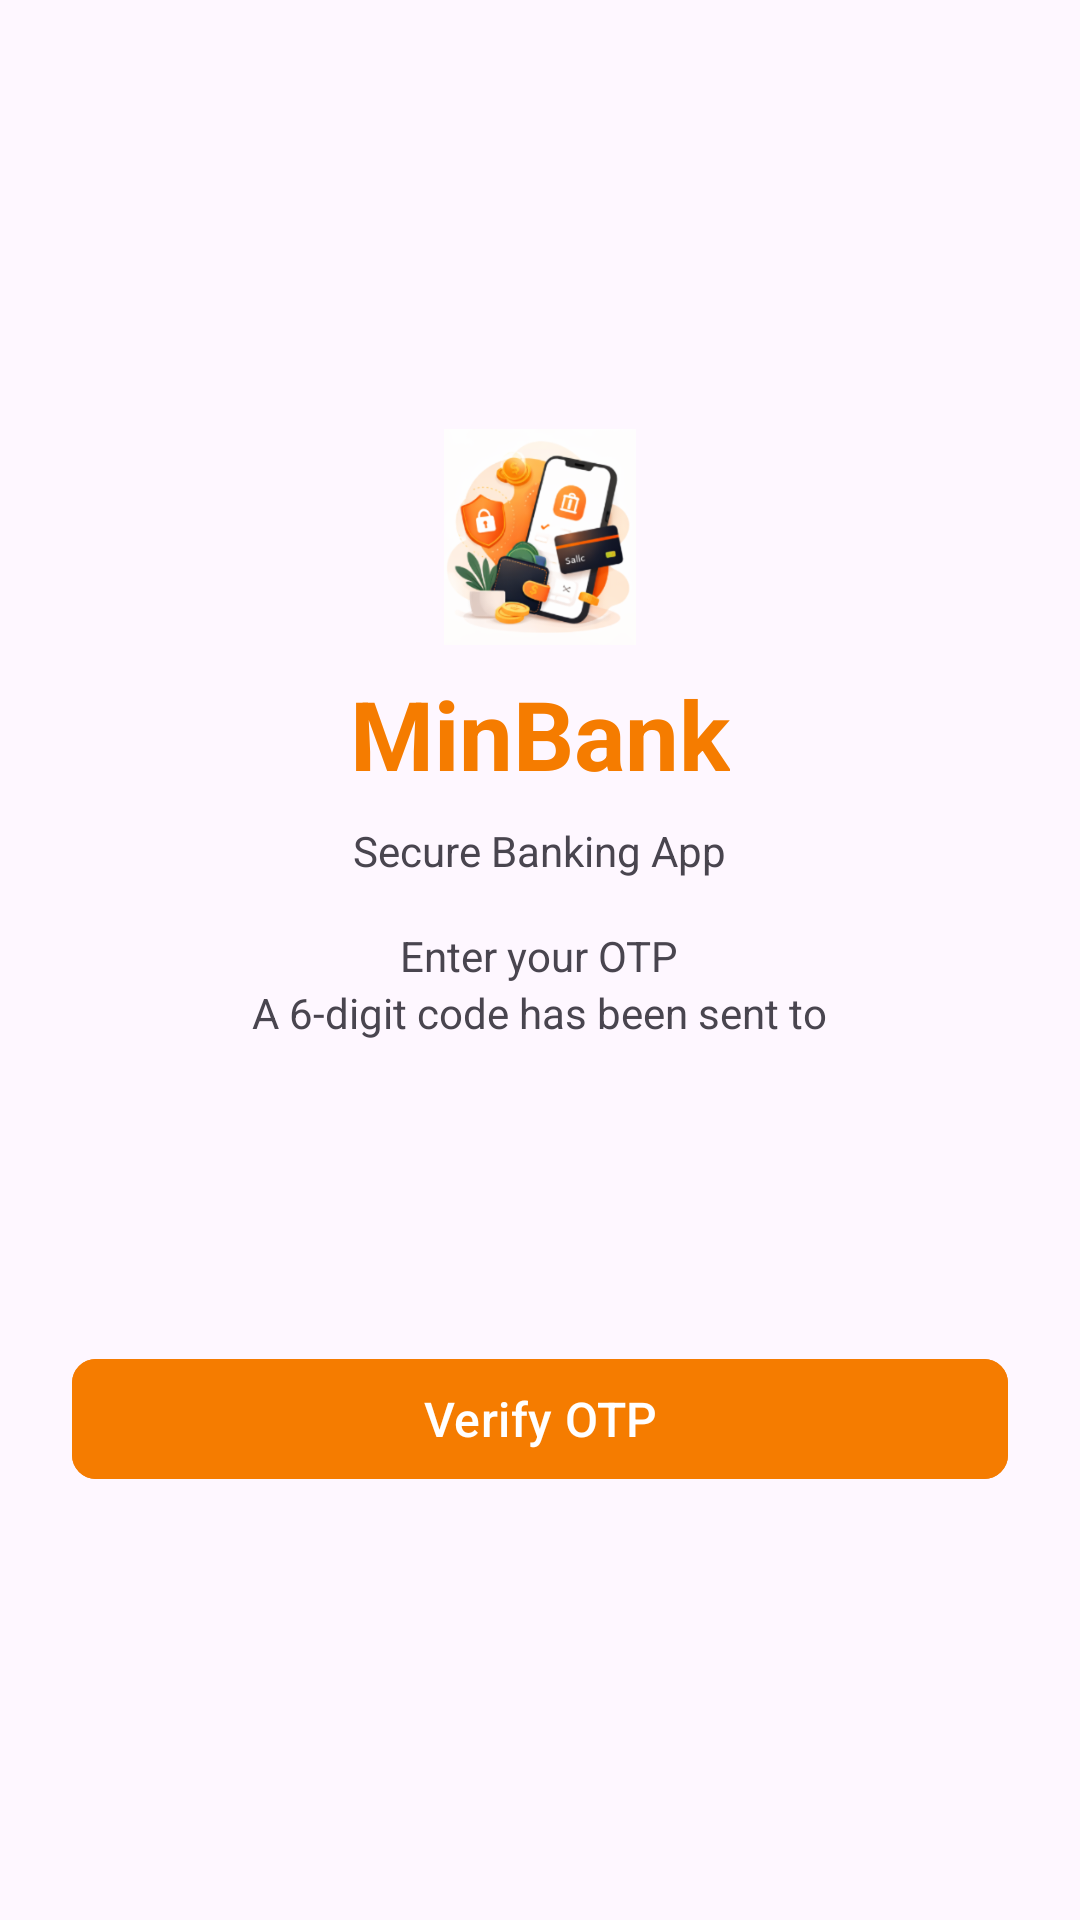

Icon bounding boxes for this 1080px×1920px phone screenshot, format [x1,y1,x2,y2]:
onboarding: [449,452,629,632]
